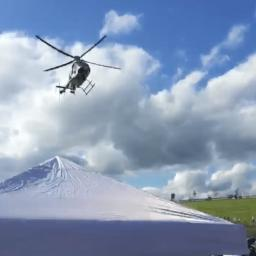helicopter: (34, 36, 123, 101)
